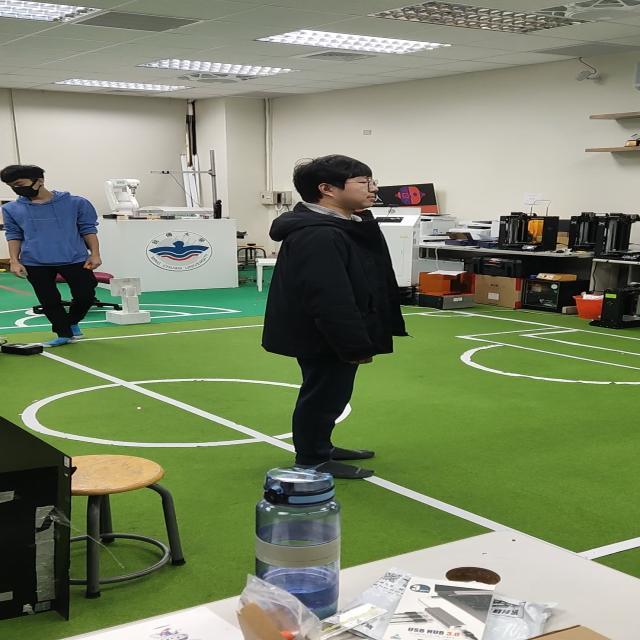person: (259, 148, 405, 463), (0, 157, 110, 340)
